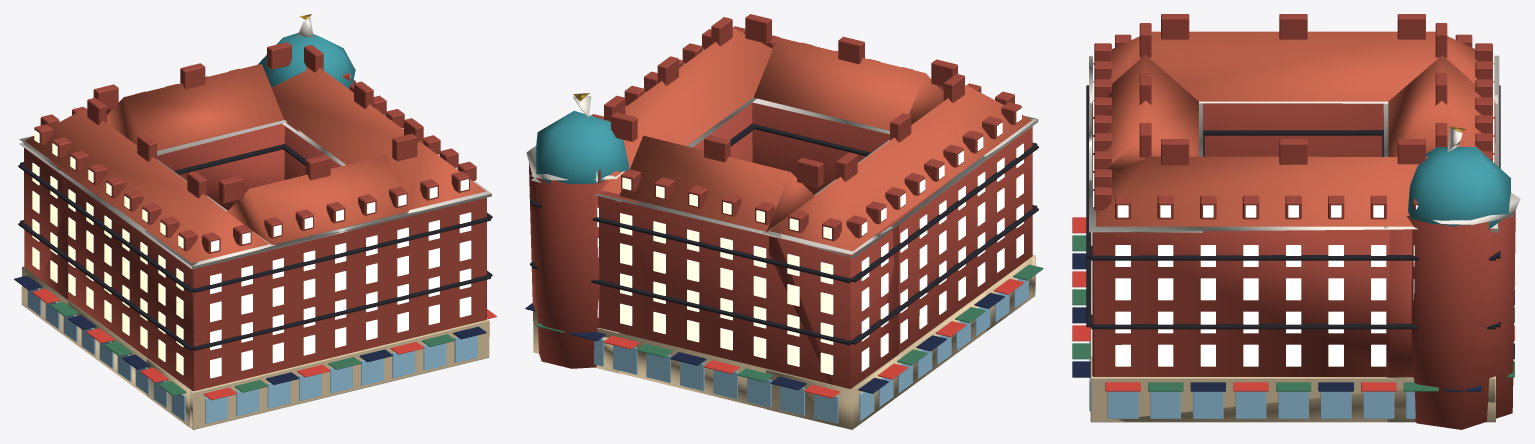
The model's file is city_block_b.glb.
3 views of the same model, side by side, from view 1: azimuth 30°, elevation 25°; view 2: azimuth 150°, elevation 25°; view 3: azimuth 270°, elevation 25° (orthographic). The views are drawn at different scales.
Visible parts, largest first — view 1: city_block_b; view 2: city_block_b; view 3: city_block_b.
Part boxes in pixels (x1=…): city_block_b: x1=14, y1=14, x2=496, y2=429; city_block_b: x1=525, y1=14, x2=1043, y2=429; city_block_b: x1=1072, y1=14, x2=1520, y2=429.
Bounding box in the file's own units: 37.73 × 25.92 × 37.89.
Materials: 1 (1 with a texture image).
